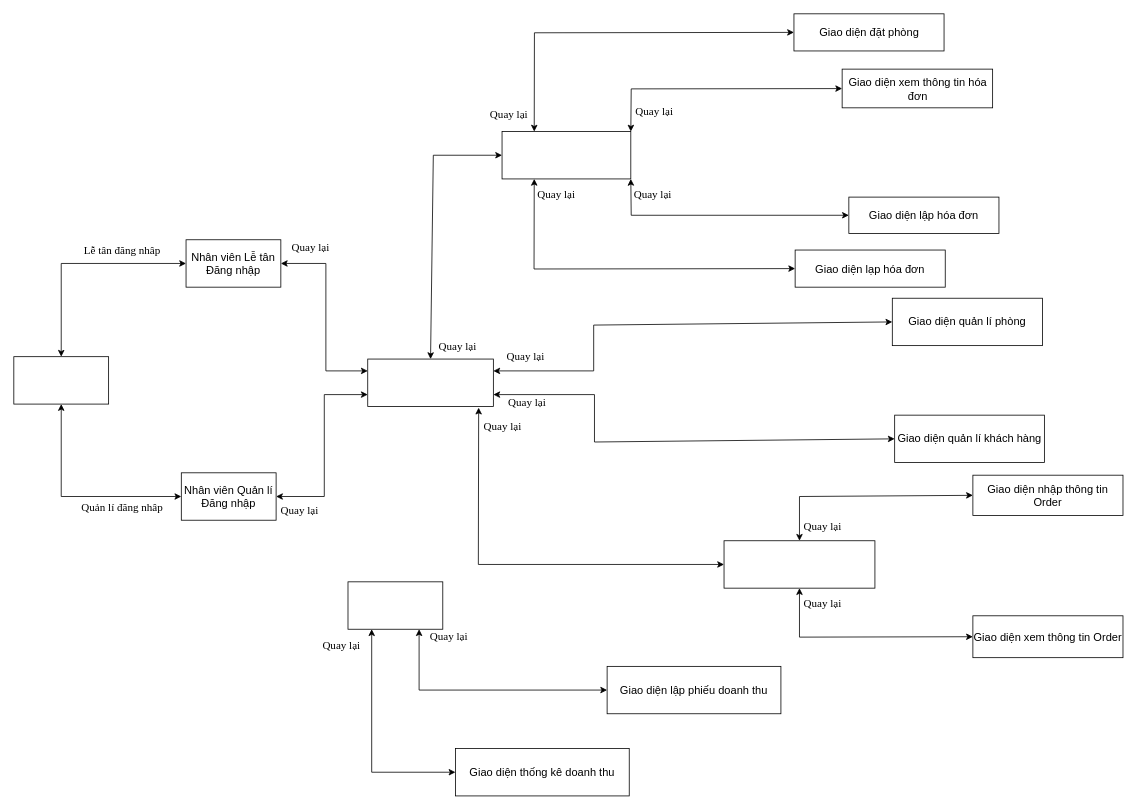
Some shapes in this 1137 by 810 pixel diagram are drawn without their labels. The centre of each missing label's shape, as x and y in pixels:
"Giao diện chính" belongs at [430,382].
"Giao diện của quản lí" belongs at [395,605].
"Giao diện dịch vụ" belongs at [799,564].
"Giao diện quản lí đặt phòng" belongs at [566,155].
"Đăng nhập" belongs at [61,380].
